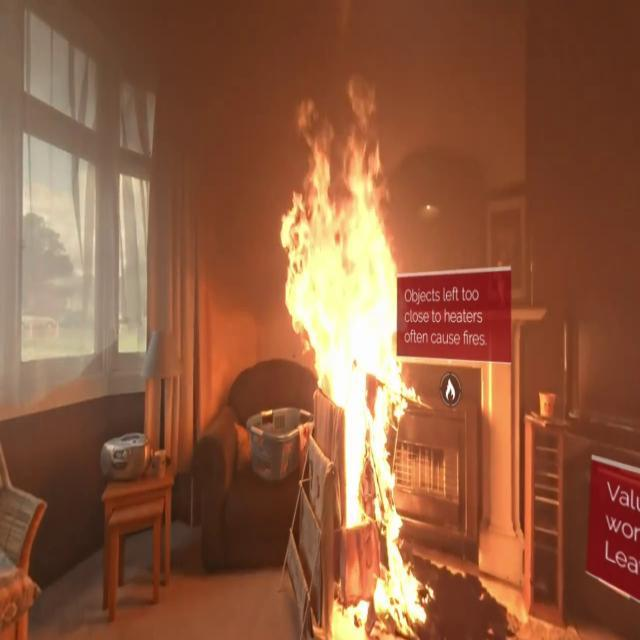Fire: (276, 91, 426, 633)
